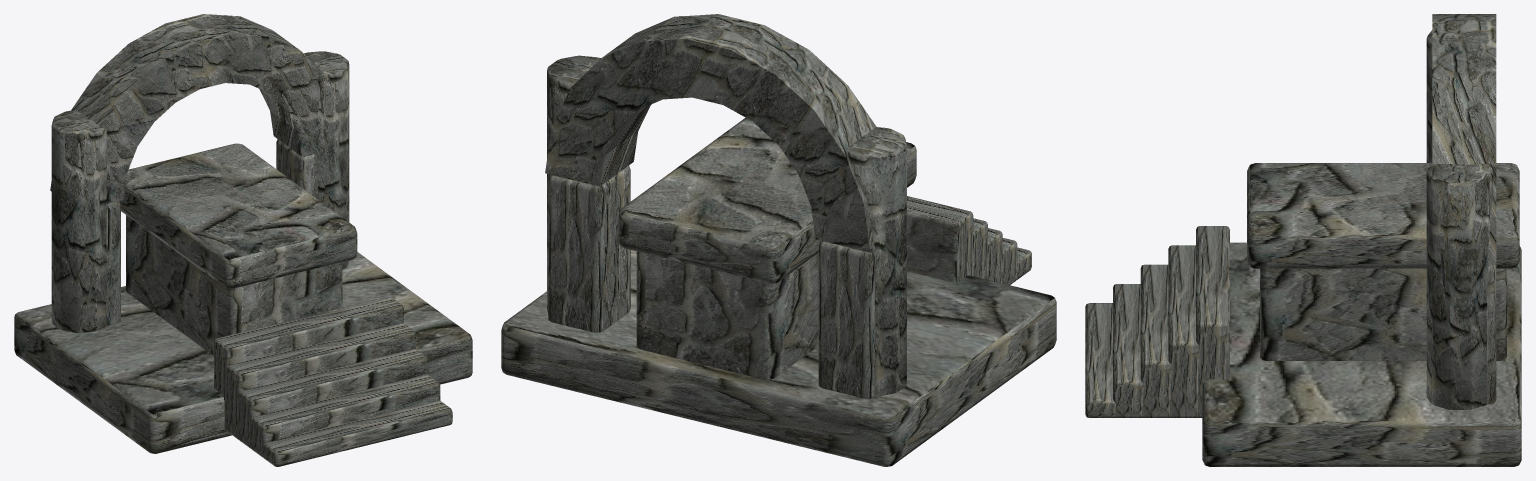
Rendered from env-site-tomb.glb.
3 renders of one model, left to right at view 1: azimuth 30°, elevation 25°; view 2: azimuth 150°, elevation 25°; view 3: azimuth 270°, elevation 25°, orthographic. The views are drawn at different scales.
Parts seen in each view (by area): view 1: site tomb · authored textured miniature; view 2: site tomb · authored textured miniature; view 3: site tomb · authored textured miniature.
Boxes of the visible parts, x1,y1,x2,y2 form: site tomb · authored textured miniature: [14, 14, 472, 466]; site tomb · authored textured miniature: [501, 14, 1056, 466]; site tomb · authored textured miniature: [1085, 14, 1521, 466].
Bounding box in the file's own units: 1 × 0.9008 × 1.03.
1 material, 1 textured.
